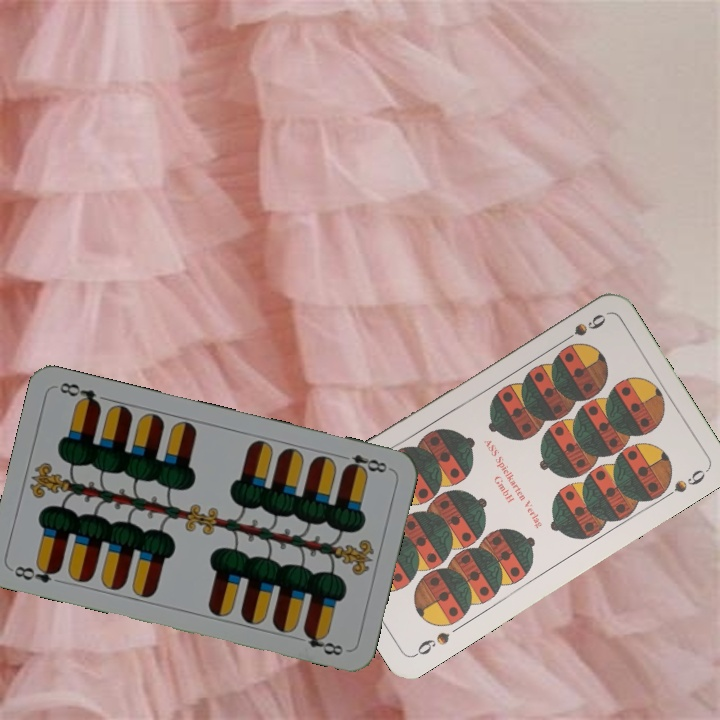E8: (335, 450, 390, 477), (10, 559, 64, 586)
S9: (556, 309, 608, 347), (410, 628, 453, 659)
